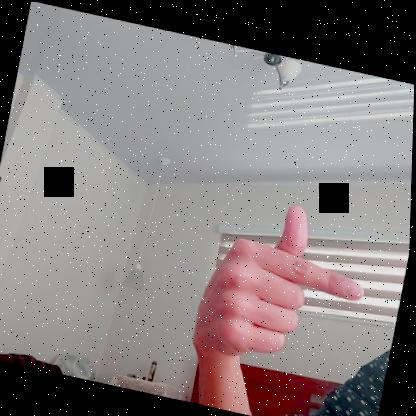T: (187, 182, 382, 390)
